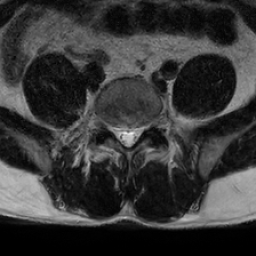CCS_normal: (123, 116, 132, 154)
LFS_stenosis: (141, 113, 149, 142)
LLS_normal: (132, 116, 141, 150)
RFS_normal: (105, 112, 114, 142)
RLS_normal: (114, 117, 123, 149)
